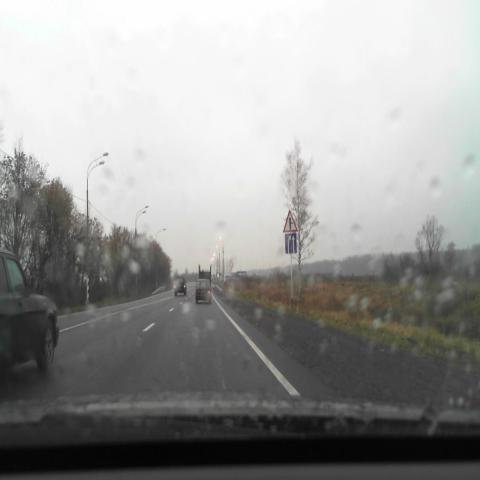2_3_2: (282, 209, 298, 232)
